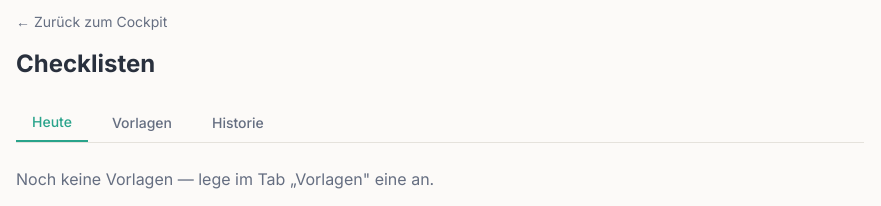
Scenario: ChecklistModule › switches to the Historie tab
The width and height of the screenshot is (881, 206).
Step 1. Click the tab "Historie" → (238, 123), box x1=196 y1=104 x2=280 y2=142
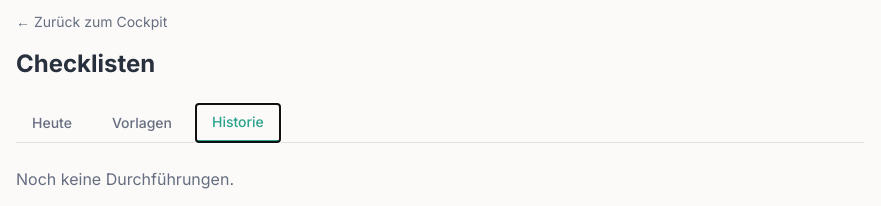
Result: the text "Noch keine Durchführungen." is shown at x1=16 y1=169 x2=234 y2=189
